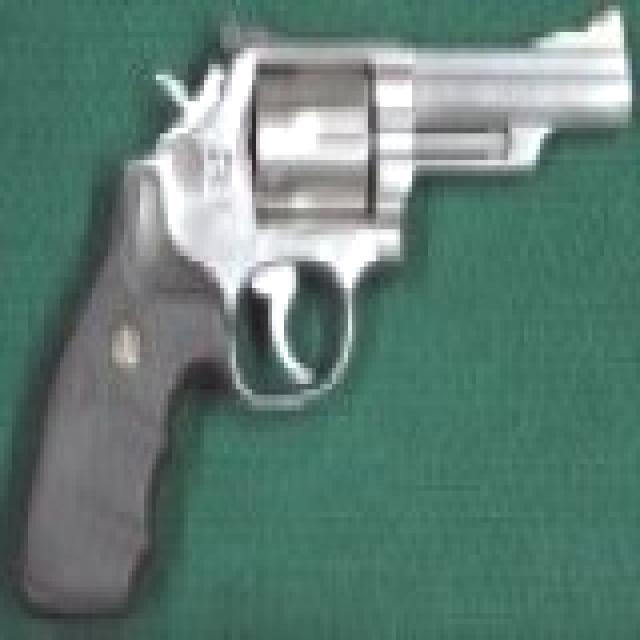pistol: (16, 5, 636, 619)
